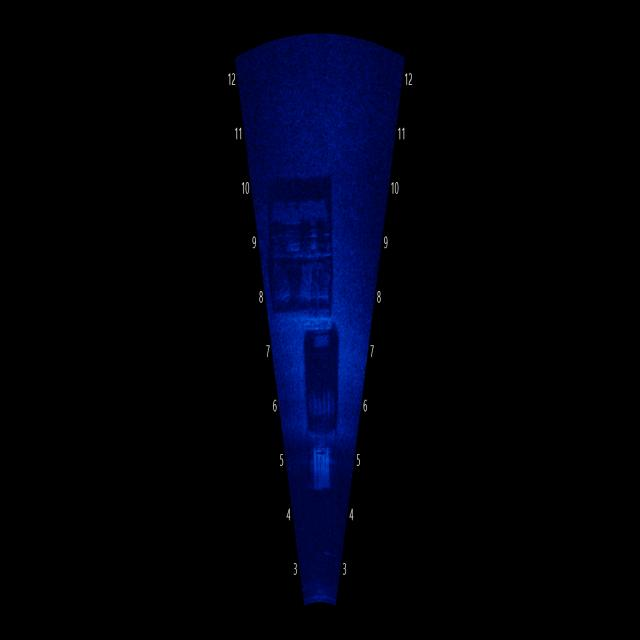square: (264, 156, 343, 318), (297, 322, 346, 446), (310, 428, 342, 511)
